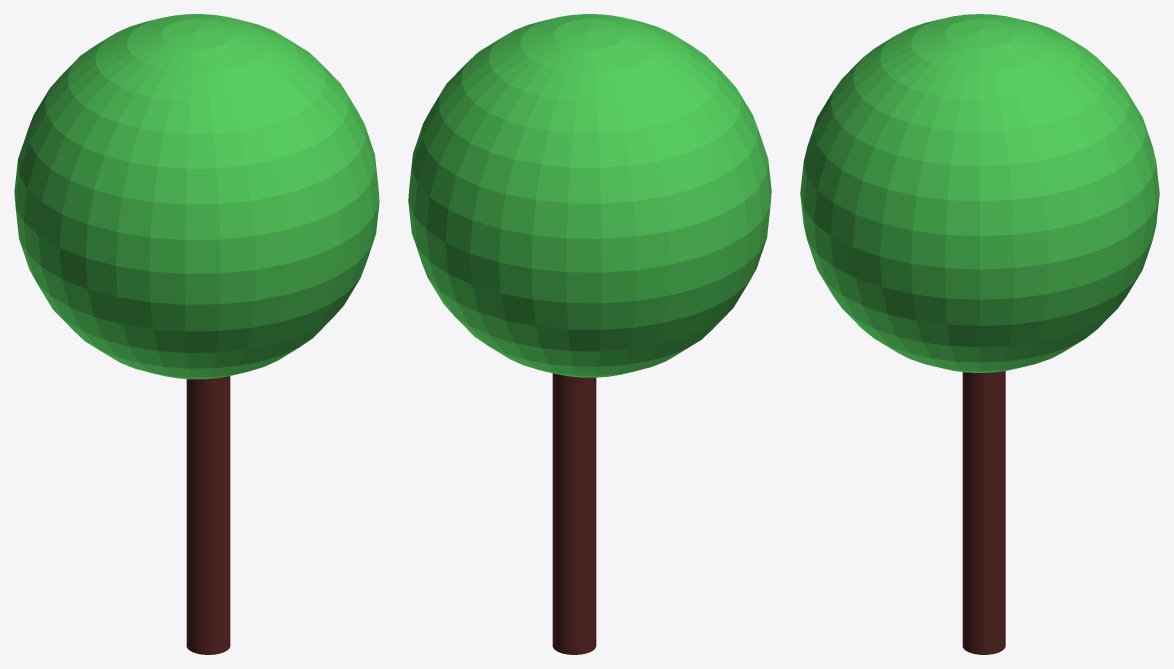
File: Tree2.glb
The picture shows the model from 3 angles, left to right: view 1: azimuth 30°, elevation 25°; view 2: azimuth 150°, elevation 25°; view 3: azimuth 270°, elevation 25°; orthographic projection.
Visible parts, largest first — view 1: Sphere, Cylinder; view 2: Sphere, Cylinder; view 3: Sphere, Cylinder.
Boxes of the visible parts, x1=… form: Sphere: x1=14, y1=14, x2=379, y2=379; Cylinder: x1=186, y1=376, x2=230, y2=654; Sphere: x1=408, y1=14, x2=771, y2=377; Cylinder: x1=552, y1=373, x2=596, y2=654; Sphere: x1=800, y1=14, x2=1159, y2=372; Cylinder: x1=962, y1=371, x2=1005, y2=654.
Size of the model in its own units: 10 by 18.68 by 10.
2 materials, 2 textured.
